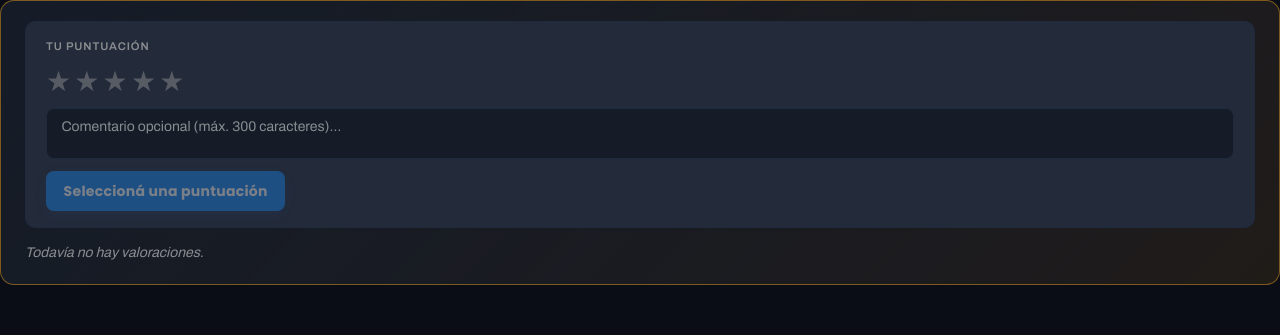
Test: <TableRatings> › muestra error si el POST falla
Expected: the text "Tu puntuación" is shown, top-left (46, 40), bottom-right (150, 52)
Step 1. Click the button named "3 estrellas" → (115, 82), box top-left (103, 68), bottom-right (128, 96)
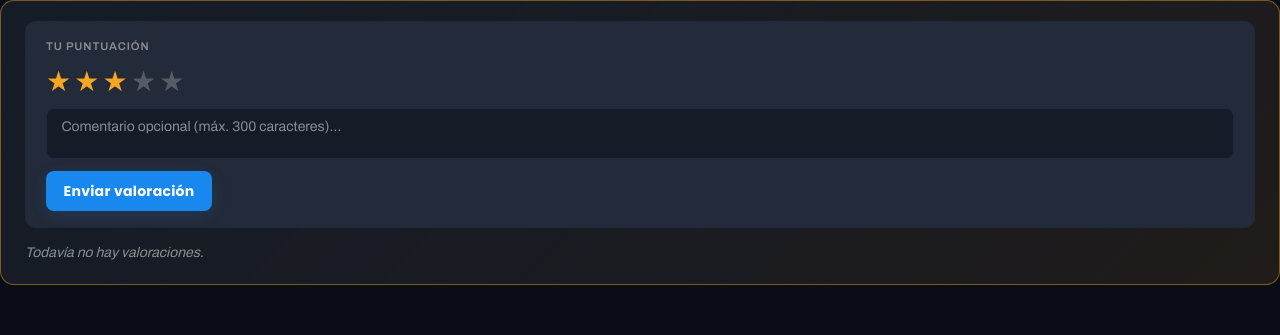
Step 2. Click the button "Enviar valoración" → (129, 191), box top-left (46, 171), bottom-right (212, 211)
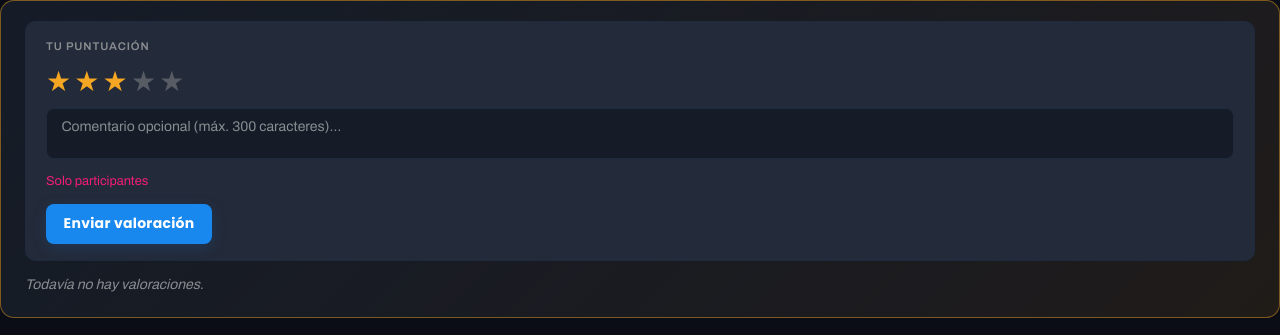
Expected: the text "Solo participantes" is shown, top-left (46, 174), bottom-right (148, 188)
